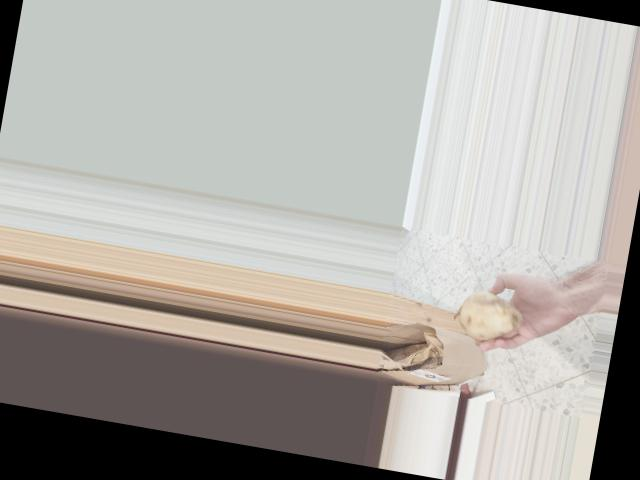onion: (452, 284, 529, 350)
